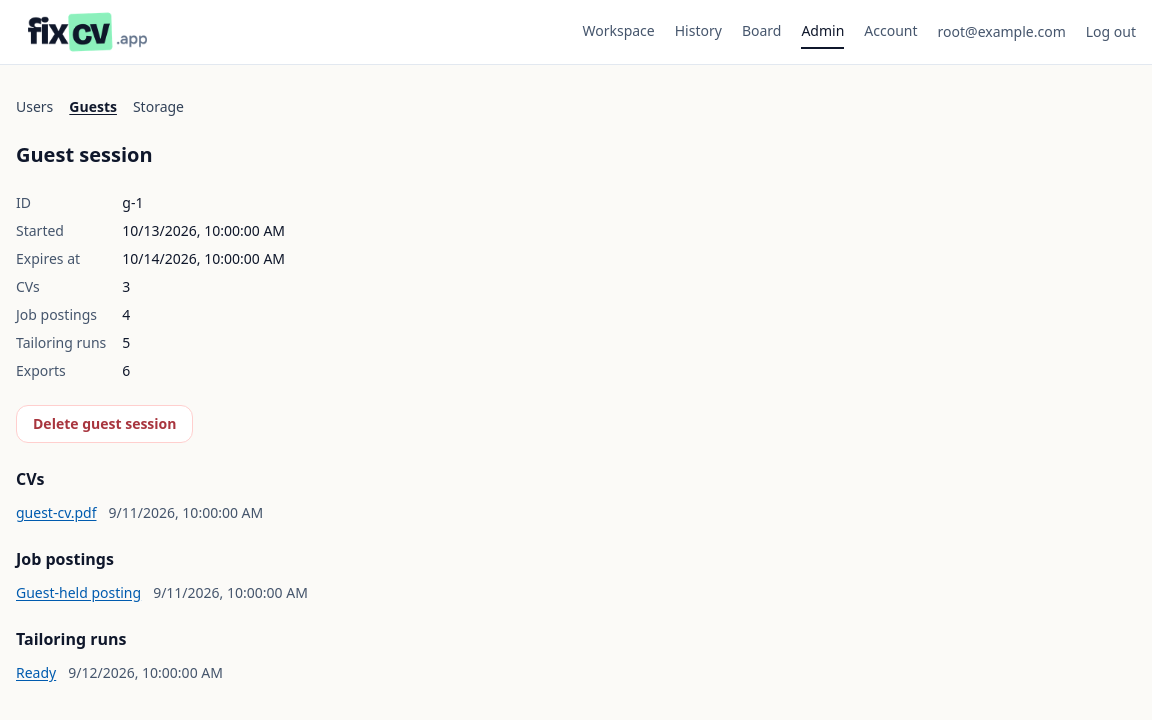
Test: delete a guest session — AC-34 › the dialog names the counts, the 24-hour purge and that it cannot be undone; nothing is sent yet
Click the button "Delete guest session" at (105, 424), box [16, 405, 194, 443]
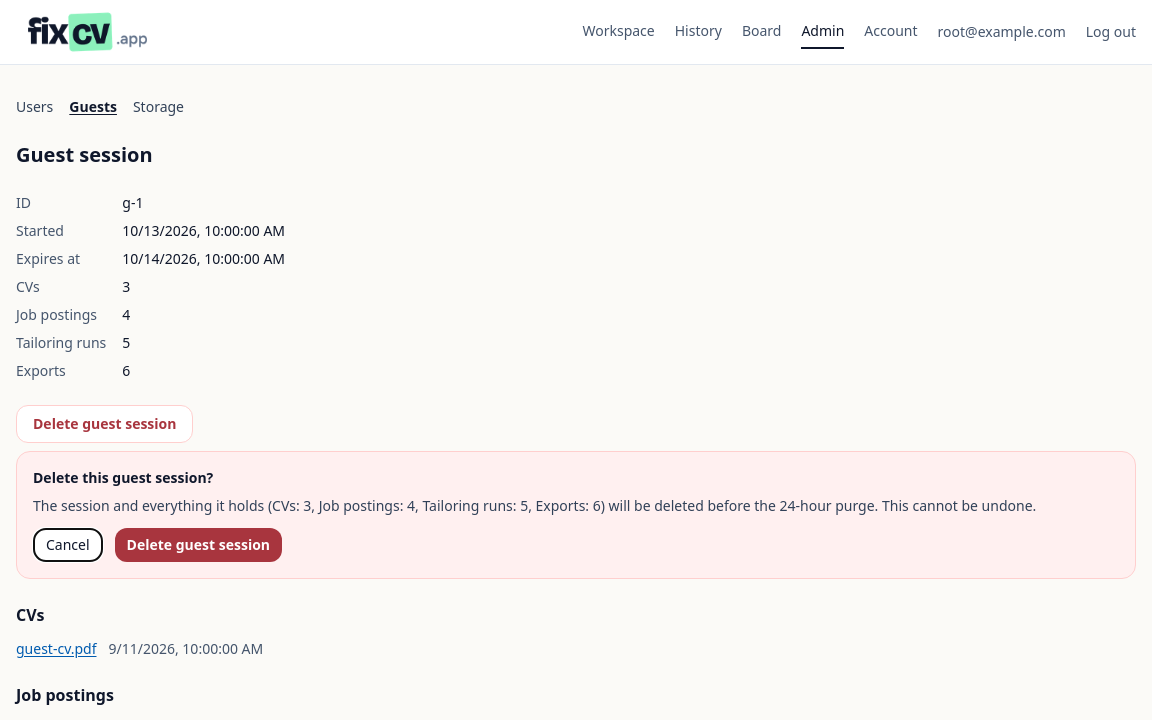
expect the dialog does not show "A run still in progress is discarded": met, box [16, 451, 1136, 579]
expect the dialog shows "before the 24-hour purge": met, box [33, 496, 1036, 515]
expect the dialog shows "cannot be undone": met, box [33, 496, 1036, 515]
